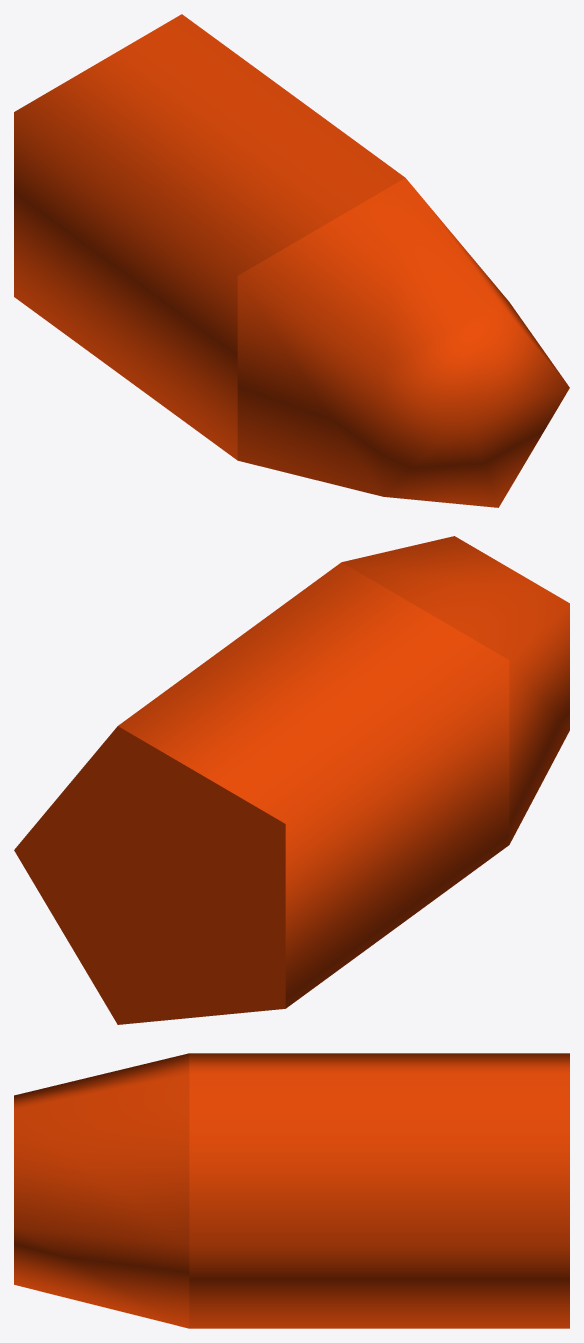
File: pro_heavy.fbx
3 views of the same model, one above another, from view 1: azimuth 30°, elevation 25°; view 2: azimuth 150°, elevation 25°; view 3: azimuth 270°, elevation 25° (orthographic). The views are drawn at different scales.
Visible parts, largest first — view 1: pro_heavy; view 2: pro_heavy; view 3: pro_heavy.
Boxes of the visible parts, box(x1,y1,x2,y2) form: pro_heavy: box(14, 14, 569, 507); pro_heavy: box(14, 536, 569, 1024); pro_heavy: box(14, 1053, 569, 1328).
Size of the model in its own units: 13.27 by 13.95 by 27.65.
